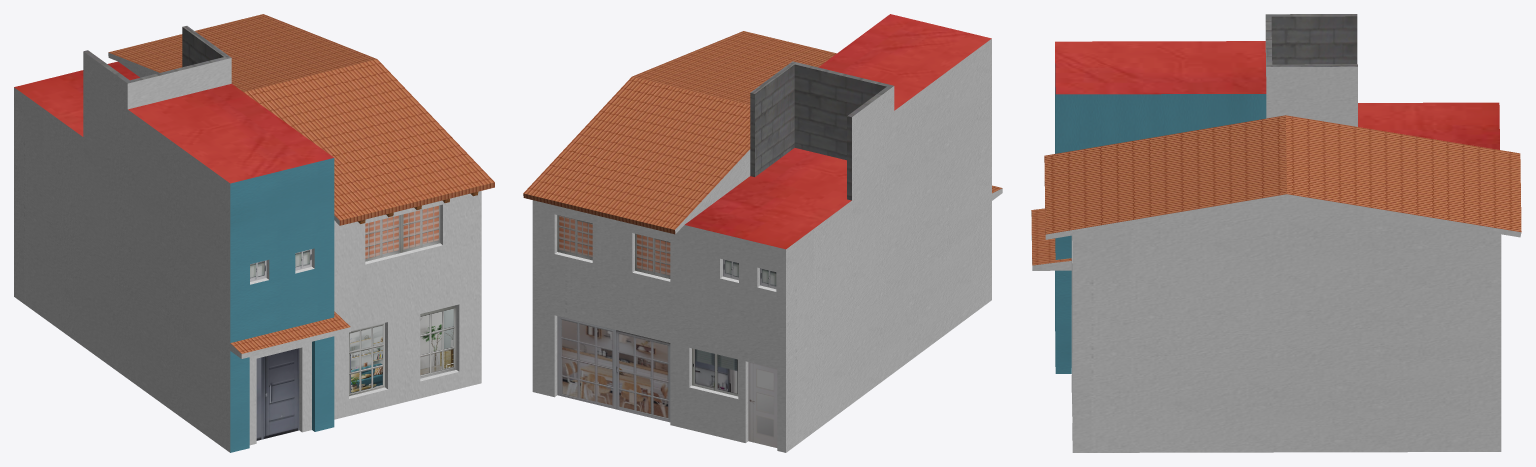
Rendered from semi-residential.glb.
The picture shows the model from 3 angles, left to right: view 1: azimuth 30°, elevation 25°; view 2: azimuth 150°, elevation 25°; view 3: azimuth 270°, elevation 25°; orthographic projection. The views are drawn at different scales.
Parts seen in each view (by area): view 1: Model_01 - Default_0; view 2: Model_01 - Default_0; view 3: Model_01 - Default_0.
Part boxes in pixels (x1,y1,x2,y2): Model_01 - Default_0: (14, 14, 494, 452); Model_01 - Default_0: (523, 14, 1002, 452); Model_01 - Default_0: (1031, 14, 1521, 452).
Bounding box in the file's own units: 8.07 × 8.68 × 12.58.
1 material, 1 textured.
